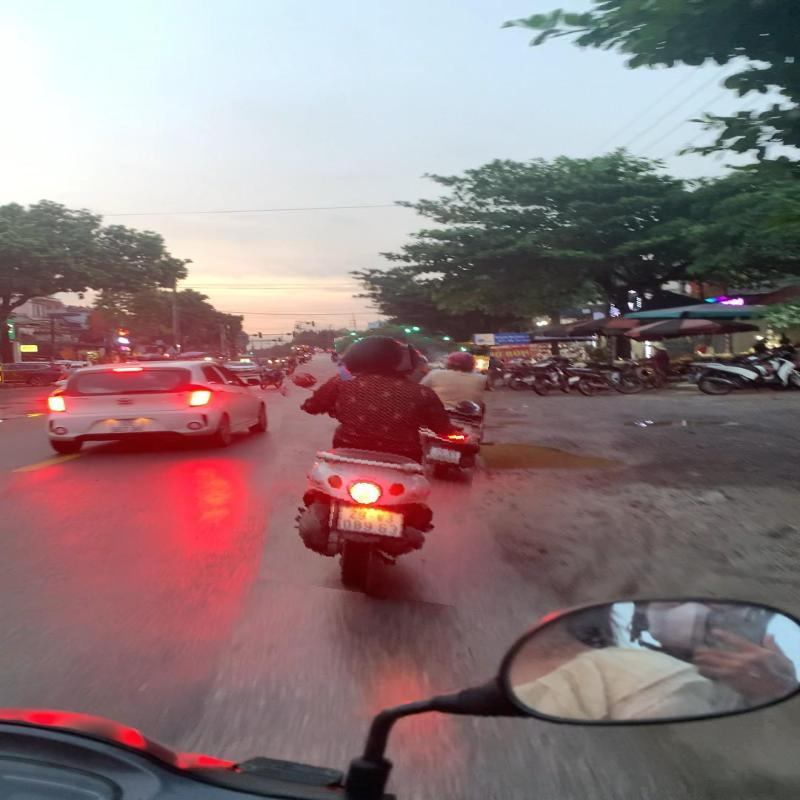helmet: (336, 329, 411, 379)
licenseplate: (332, 504, 408, 538)
motorcyclist: (268, 326, 482, 600)
